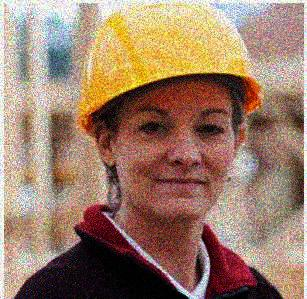helmet: (74, 1, 263, 222)
